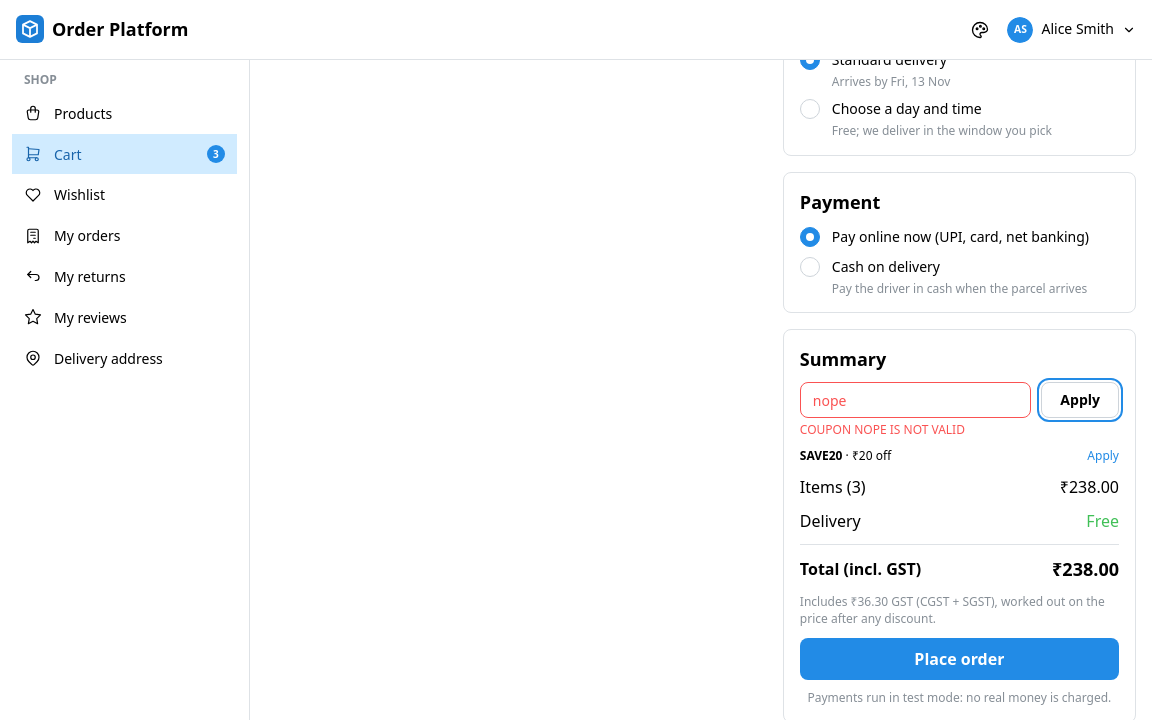
Test: checkout extras › applies a coupon, books a delivery slot, and pays cash on delivery
Earlier steps of the test are not shown.
(page scrolled)
Expected: the text "Coupon NOPE is not valid" is shown, top-left (800, 421), bottom-right (965, 438)
Click the button with aria-label "Apply SAVE20" at [1103, 456], box top-left (1087, 448), bottom-right (1119, 464)
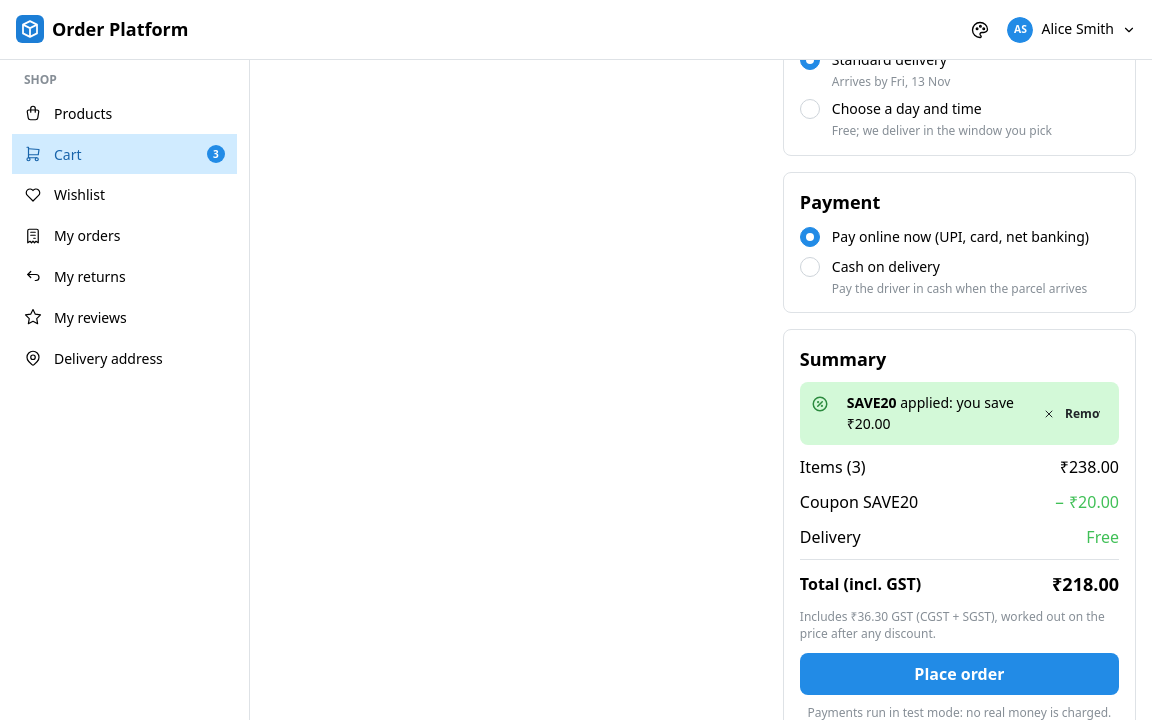
Now the text "SAVE20 applied: you save ₹20.00" is shown, box top-left (847, 393), bottom-right (1021, 434)
Now the text named "Order total" reads "₹218.00", box top-left (1052, 572), bottom-right (1119, 596)
Note: A day and time: the full morning cannot be picked
Click the radio button labelled "Choose a day and time" at [810, 109], box top-left (800, 99), bottom-right (820, 119)
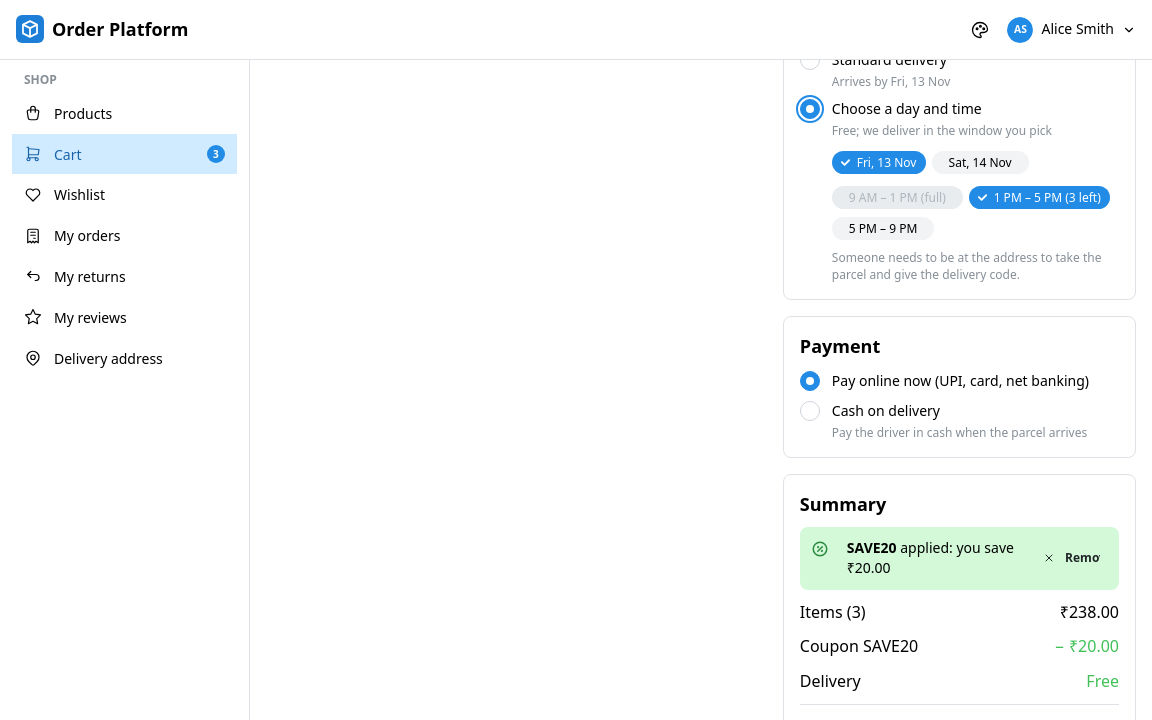
Now the radio button labelled "9 AM – 1 PM (full)" is disabled, box top-left (832, 186), bottom-right (963, 209)
Click the radio button labelled "Sat, 14 Nov" at [980, 162], box top-left (932, 151), bottom-right (1029, 174)
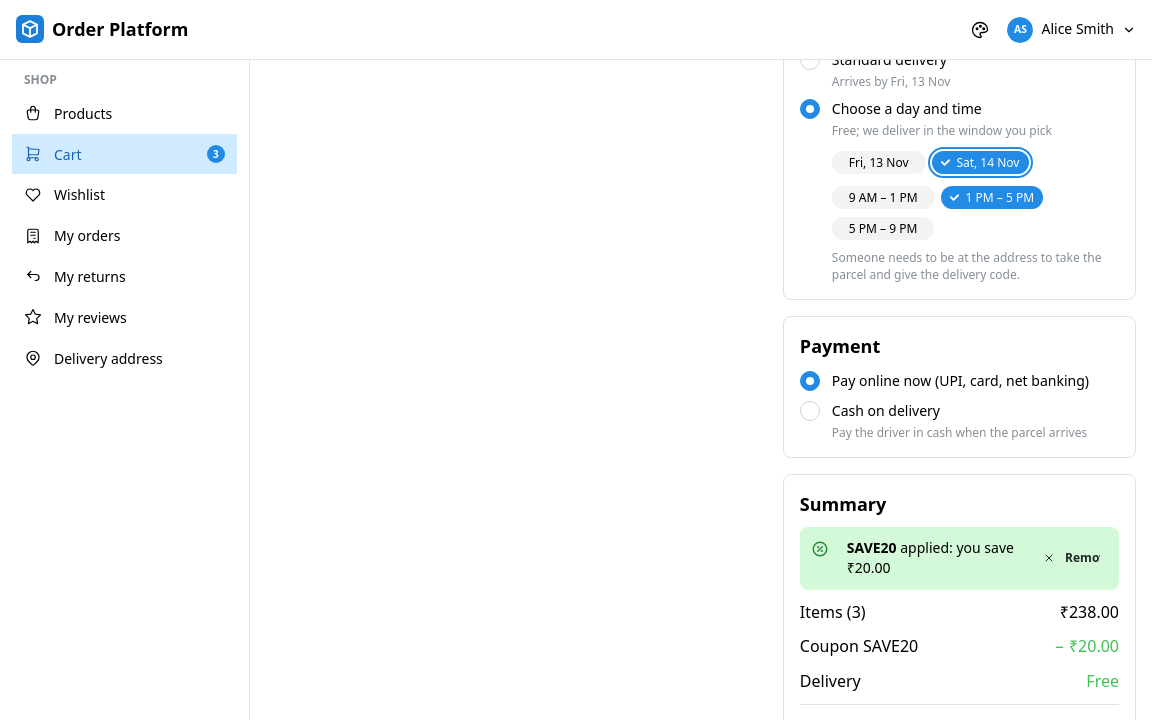
Click the radio button labelled "9 AM – 1 PM" at [883, 197], box top-left (832, 186), bottom-right (935, 209)
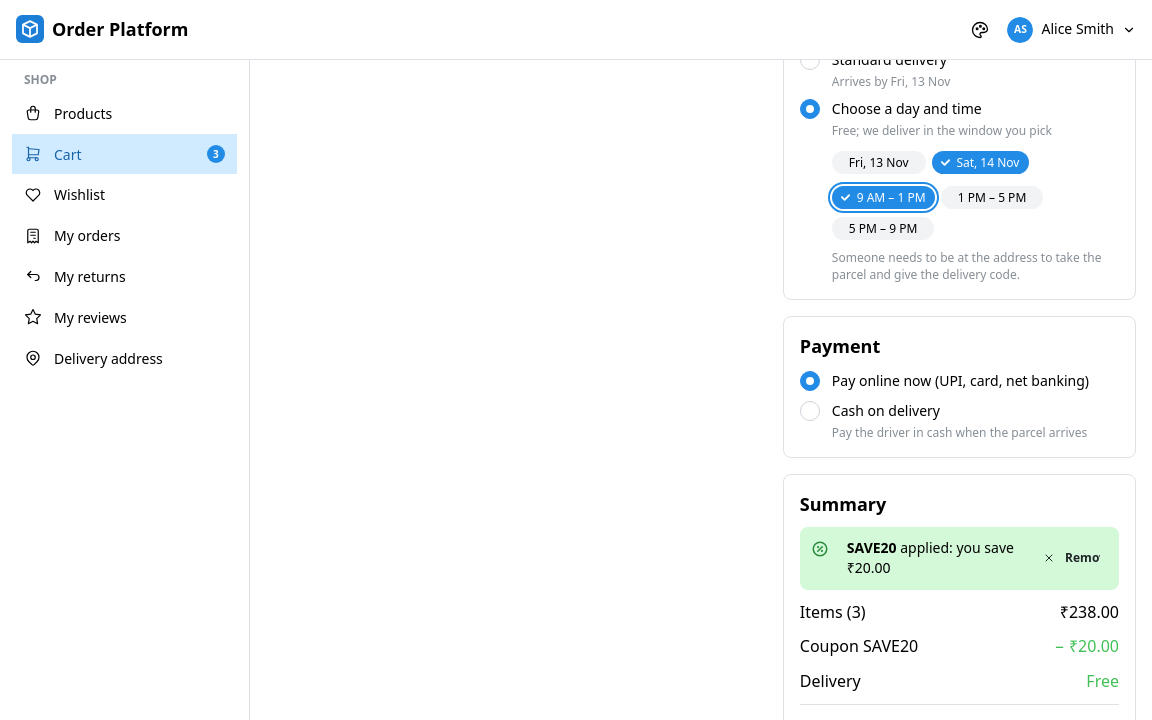
Click the radio button labelled "Cash on delivery" at [810, 411], box top-left (800, 401), bottom-right (820, 421)
(page scrolled)
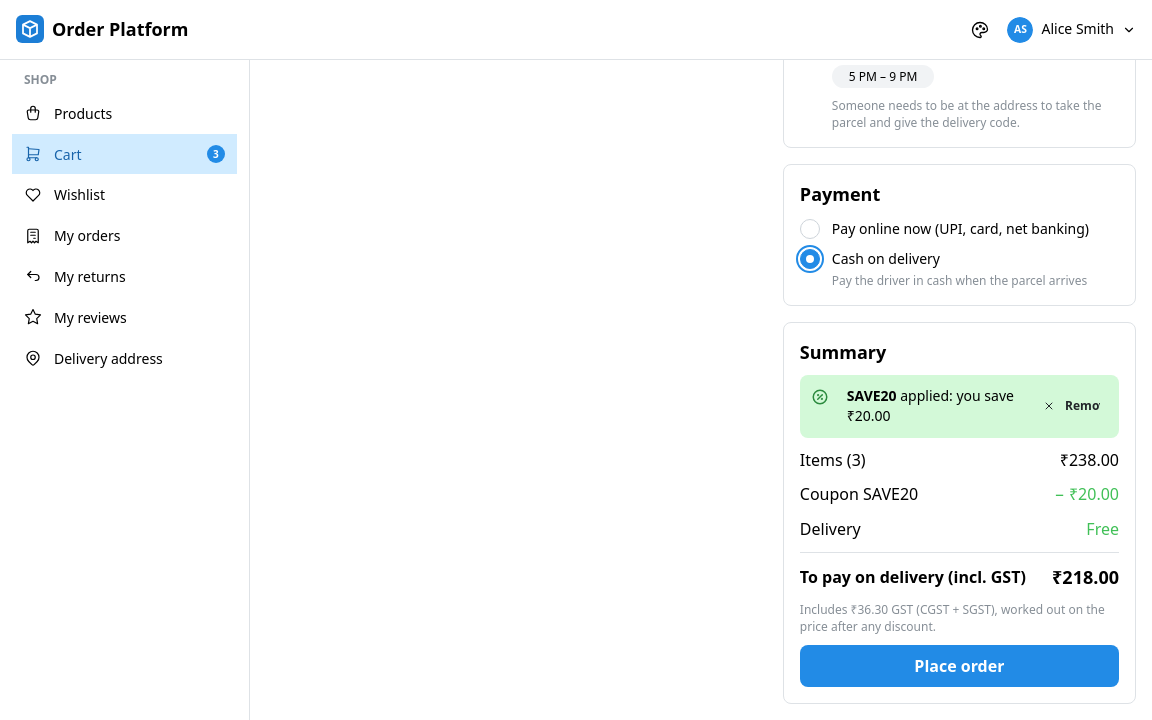
Now the text "To pay on delivery (incl. GST)" is shown, box top-left (800, 565), bottom-right (1026, 590)
Click the button "Place order" at [959, 666], box top-left (800, 645), bottom-right (1119, 687)
(page scrolled)
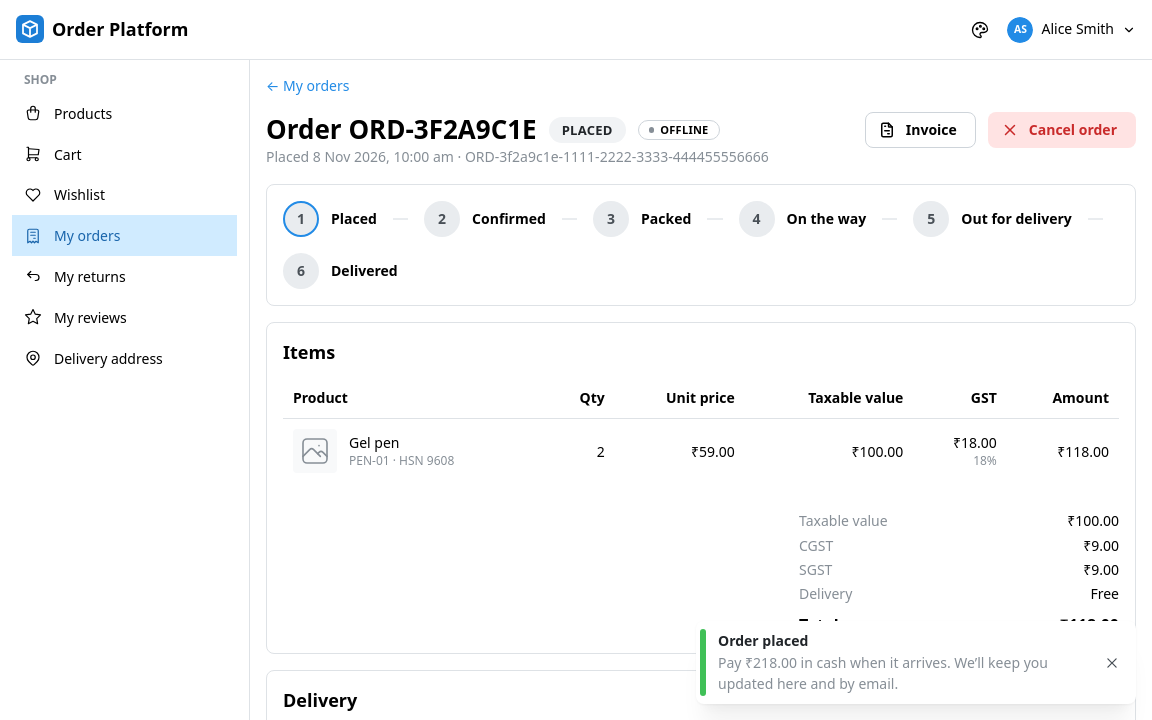
Now the text "Pay ₹218.00 in cash when it arrives" is shown, box top-left (718, 653), bottom-right (1048, 693)
